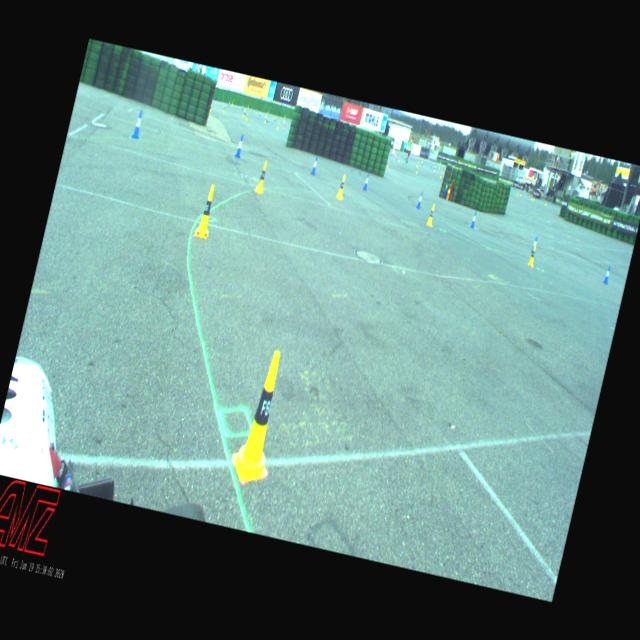blue_cone: (131, 110, 145, 138), (233, 134, 244, 158), (602, 266, 611, 284), (310, 155, 318, 175), (362, 173, 370, 191), (415, 190, 423, 208), (530, 236, 538, 253), (469, 212, 476, 228), (429, 163, 432, 168), (274, 116, 276, 122), (436, 164, 438, 170), (242, 104, 244, 109), (259, 111, 261, 116), (395, 156, 397, 160), (284, 120, 286, 124), (404, 156, 405, 160)
orange_cone: (283, 120, 286, 126)
yellow_cone: (227, 346, 294, 486), (193, 182, 220, 240), (254, 160, 270, 194), (336, 173, 348, 200), (425, 202, 436, 226), (527, 244, 537, 267), (245, 112, 249, 120), (264, 115, 267, 124), (276, 122, 279, 130), (415, 166, 418, 174), (386, 160, 389, 167), (222, 105, 225, 112), (439, 172, 442, 178), (242, 110, 245, 116), (272, 114, 275, 120), (210, 104, 212, 112), (244, 105, 247, 110), (433, 166, 435, 172), (398, 156, 400, 162), (283, 115, 285, 121), (416, 162, 418, 167), (254, 110, 256, 114), (232, 100, 234, 104), (438, 164, 440, 168), (520, 192, 522, 196), (420, 159, 422, 163), (266, 110, 268, 114), (246, 105, 248, 109)
